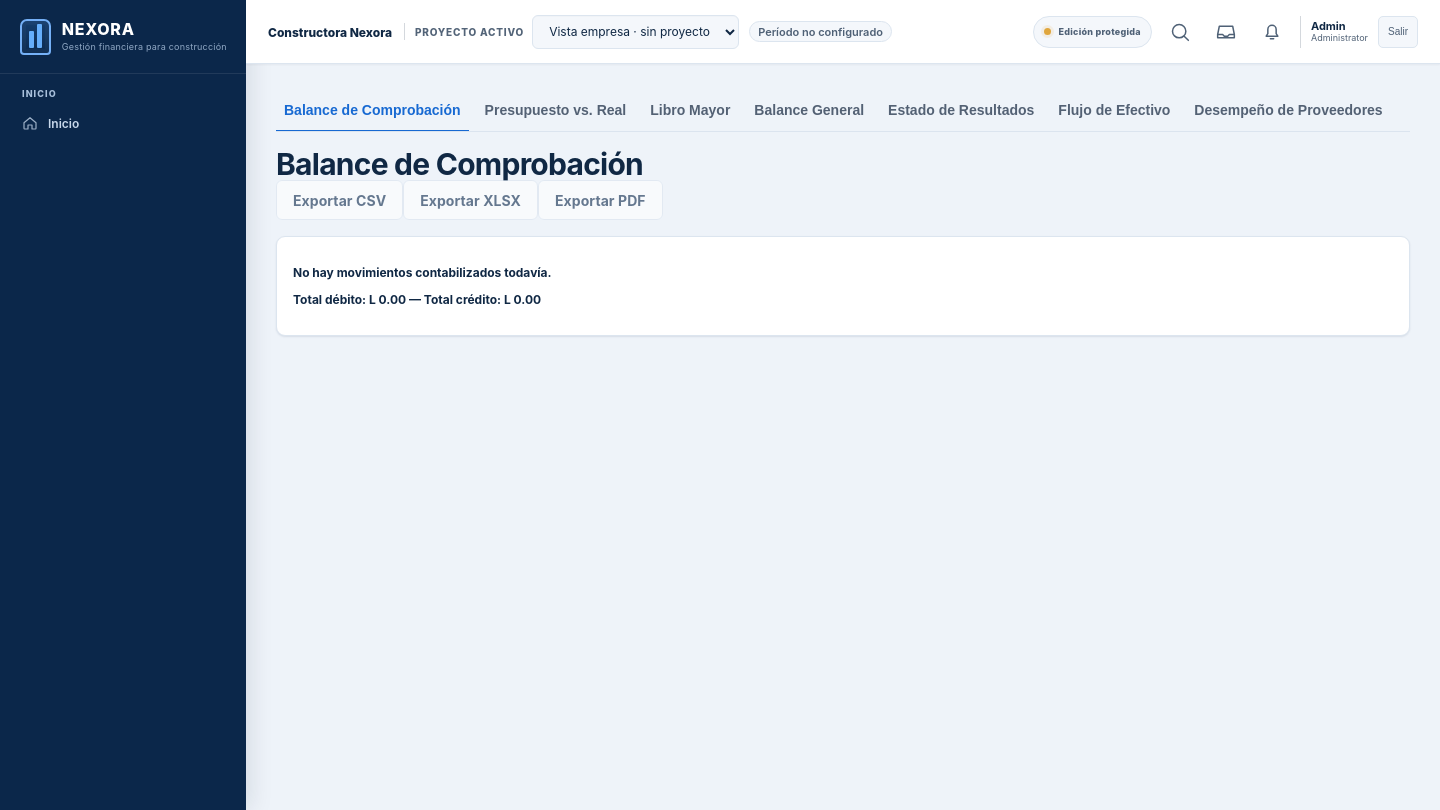
Test: GeneralLedgerPage › requests the next general-ledger page with a real offset
This screenshot has width=1440, height=810.
Click the tab "Libro Mayor" at (690, 111), box [642, 90, 738, 132]
(page scrolled)
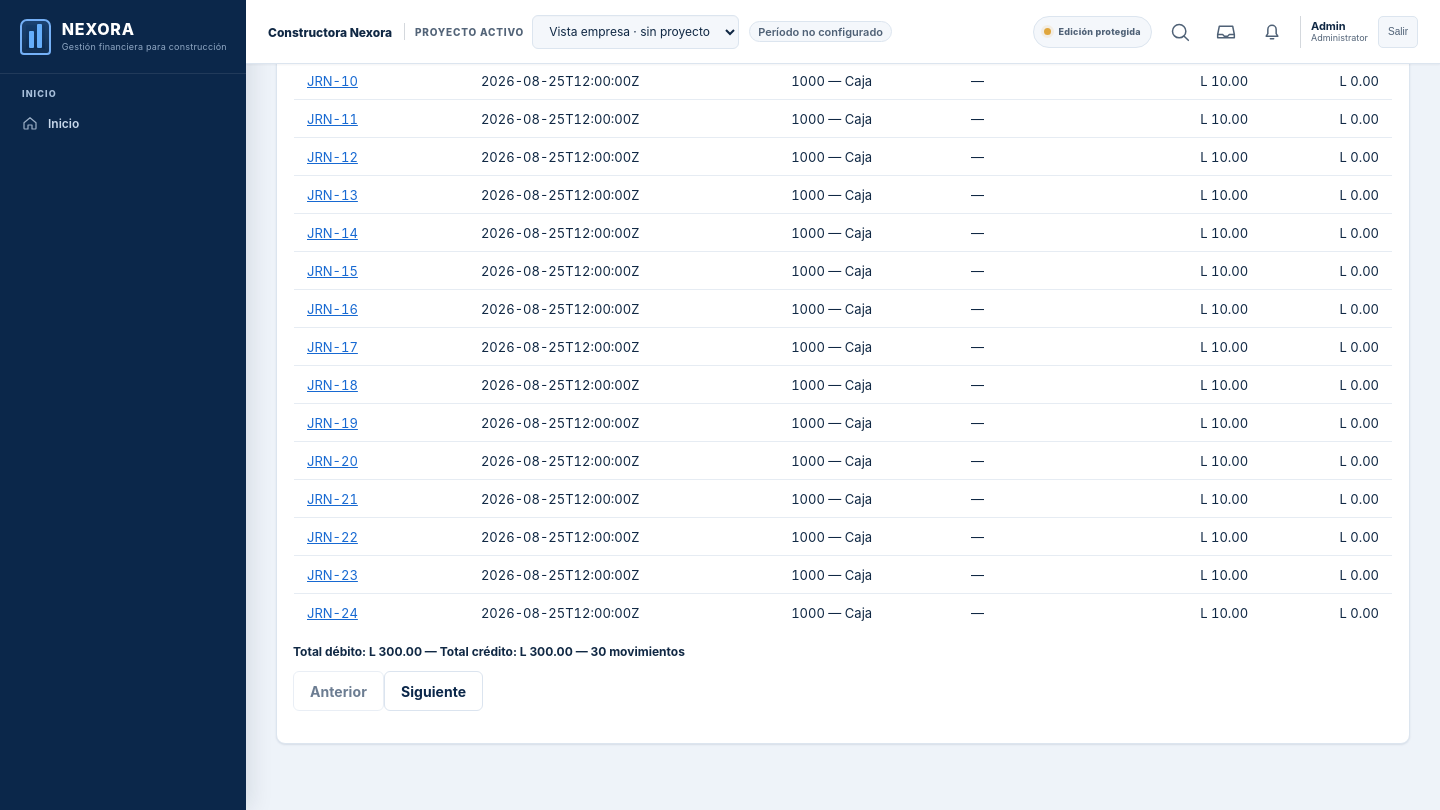
Click the button "Siguiente" at (434, 691), box [384, 671, 483, 711]
(page scrolled)
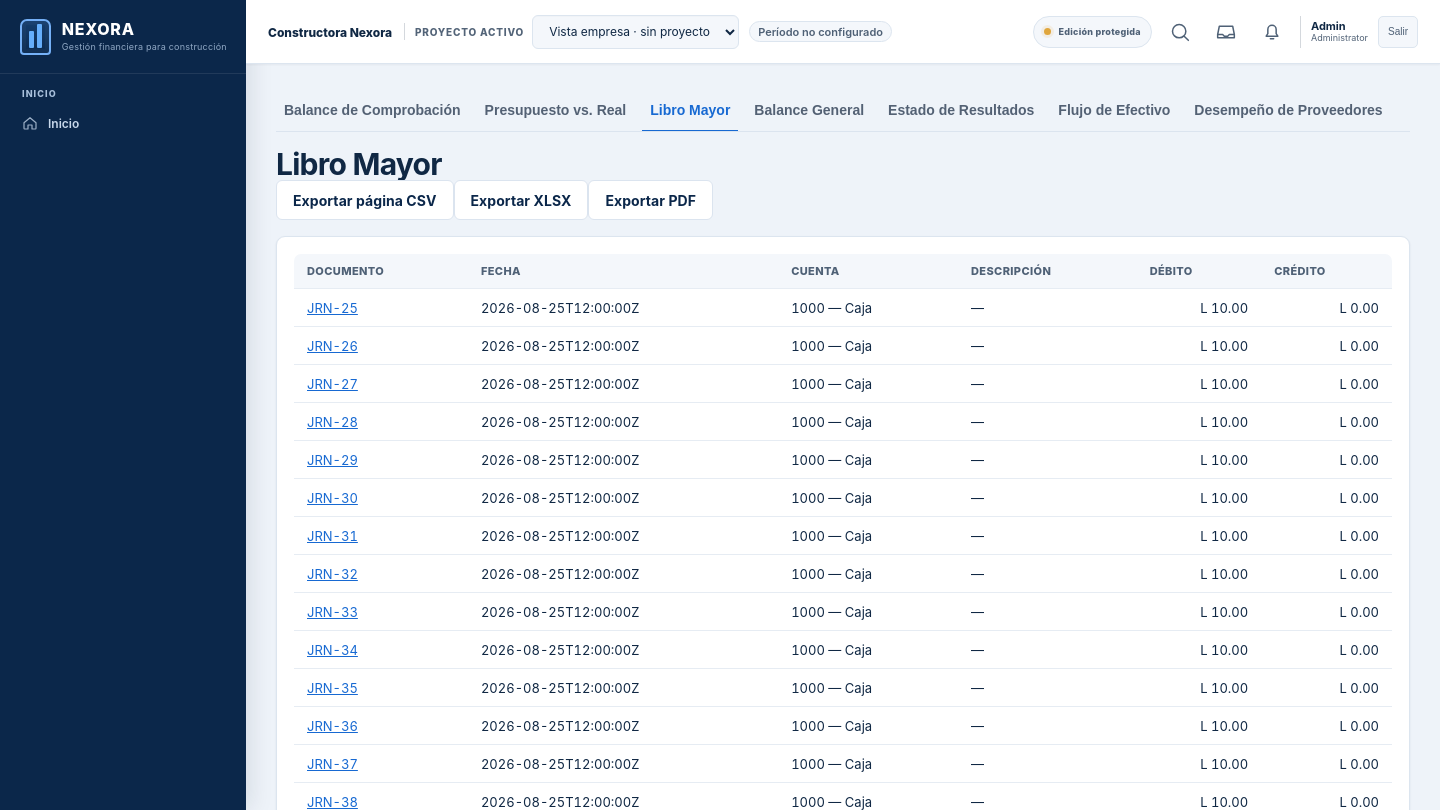
Result: the link "JRN-25" is shown at [307, 300, 358, 316]
